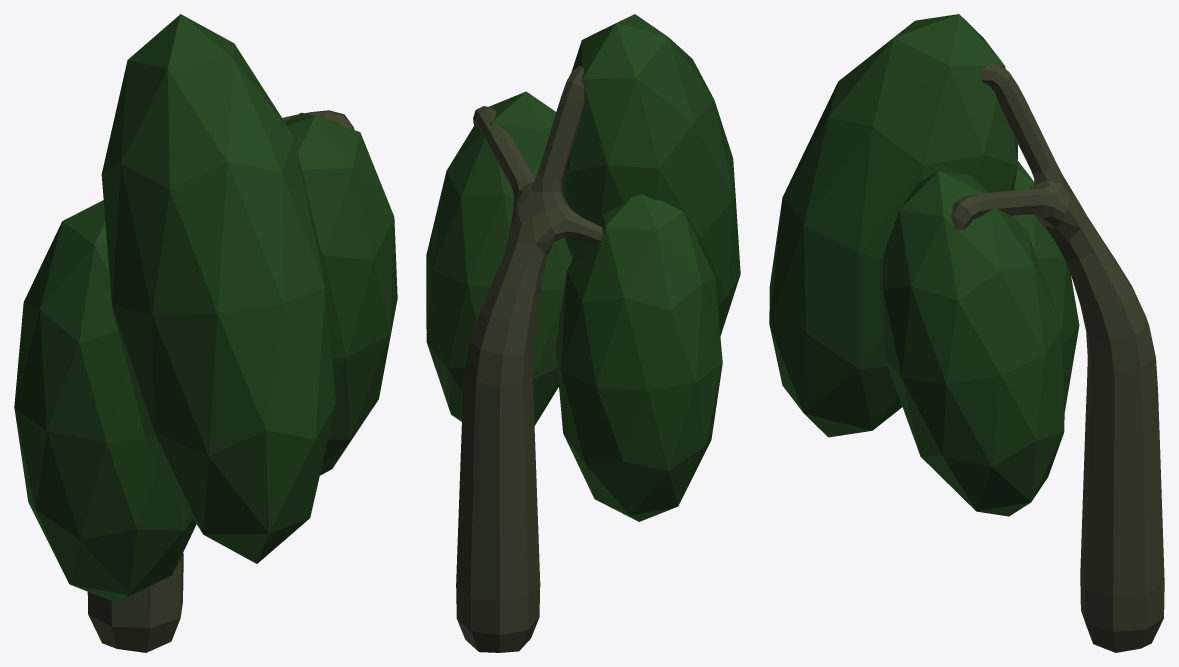
Rendered from tree6.fbx.
3 renders of one model, left to right at view 1: azimuth 30°, elevation 25°; view 2: azimuth 150°, elevation 25°; view 3: azimuth 270°, elevation 25°, orthographic. The views are drawn at different scales.
Visible parts, largest first — view 1: Икосфера.002; view 2: Икосфера.002; view 3: Икосфера.002.
Part boxes in pixels (<box>): Икосфера.002: <box>14,14,397,652</box>; Икосфера.002: <box>426,14,740,652</box>; Икосфера.002: <box>769,14,1164,652</box>.
Size of the model in its own units: 375 by 752 by 438.
1 material, 1 textured.
